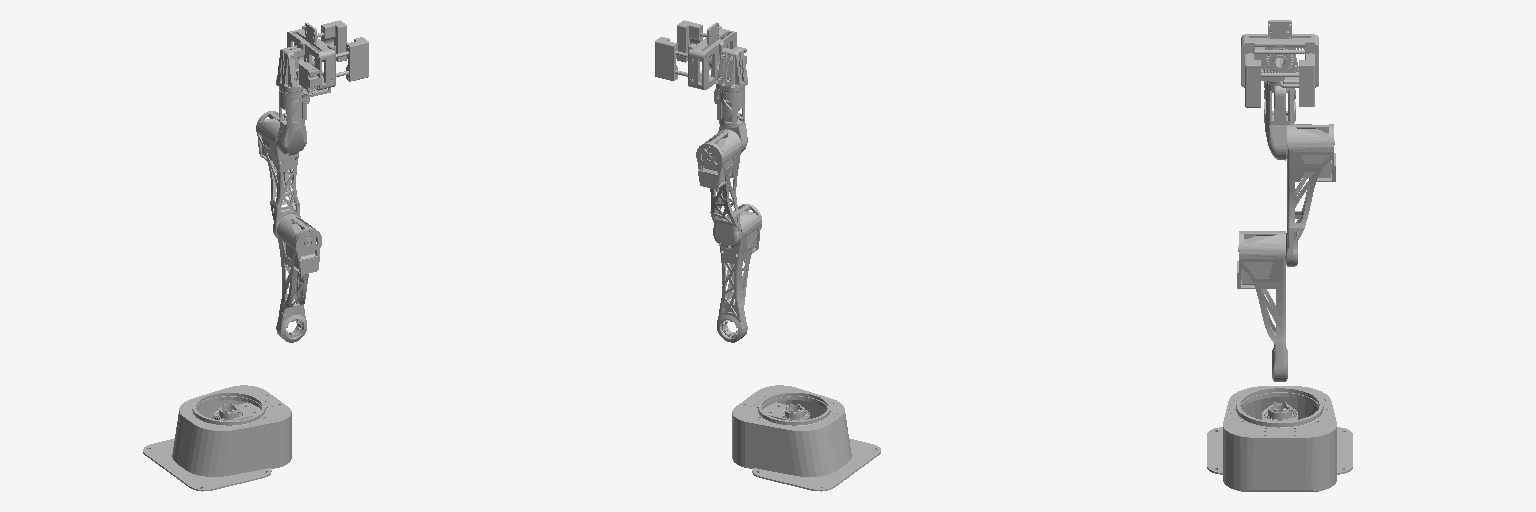
URDF robot description (robot):
<?xml version="1.0" encoding="utf-8"?>
<!-- This URDF was automatically created by SolidWorks to URDF Exporter! Originally created by [author] ([email redacted]) 
     Commit Version: 1.6.0-4-g7f85cfe  Build Version: 1.6.7995.38578
     For more information, please see http://wiki.ros.org/sw_urdf_exporter -->
<robot
  name="robot">
  <link
    name="base_link">
    <inertial>
      <origin
        xyz="0.026767 -0.01554 0.075"
        rpy="0 0 0" />
      <mass
        value="0.1883" />
      <inertia
        ixx="0.00029329"
        ixy="-3.3956E-05"
        ixz="-2.6337E-09"
        iyy="0.0005445"
        iyz="7.9205E-10"
        izz="0.0003719" />
    </inertial>
    <visual>
      <origin
        xyz="0 0 0"
        rpy="0 0 0" />
      <geometry>
        <mesh
          filename="package://mycobot_moveit/config/meshes/base_link.STL" />
      </geometry>
      <material
        name="">
        <color
          rgba="0.75294 0.75294 0.75294 1" />
      </material>
    </visual>
    <collision>
      <origin
        xyz="0 0 0"
        rpy="0 0 0" />
      <geometry>
        <mesh
          filename="package://mycobot_moveit/config/meshes/base_link.STL" />
      </geometry>
    </collision>
  </link>
  <link
    name="axis1_link">
    <inertial>
      <origin
        xyz="0.046824 0.056719 -0.00011125"
        rpy="0 0 0" />
      <mass
        value="0.28445" />
      <inertia
        ixx="0.00025925"
        ixy="-6.7497E-05"
        ixz="-3.128E-05"
        iyy="0.0003931"
        iyz="-1.6686E-05"
        izz="0.00041221" />
    </inertial>
    <visual>
      <origin
        xyz="0 0 0"
        rpy="0 0 0" />
      <geometry>
        <mesh
          filename="package://mycobot_moveit/config/meshes/axis1_link.STL" />
      </geometry>
      <material
        name="">
        <color
          rgba="0.75294 0.75294 0.75294 1" />
      </material>
    </visual>
    <collision>
      <origin
        xyz="0 0 0"
        rpy="0 0 0" />
      <geometry>
        <mesh
          filename="package://mycobot_moveit/config/meshes/axis1_link.STL" />
      </geometry>
    </collision>
  </link>
  <joint
    name="axis1_joint"
    type="continuous">
    <origin
      xyz="0.021569 -0.075 0.0059633"
      rpy="1.5708 0 0" />
    <parent
      link="base_link" />
    <child
      link="axis1_link" />
    <axis
      xyz="0 1 0" />
  </joint>
  <link
    name="axis2_link">
    <inertial>
      <origin
        xyz="-1.4283E-05 0.093446 0.014601"
        rpy="0 0 0" />
      <mass
        value="0.07357" />
      <inertia
        ixx="9.88E-05"
        ixy="1.4573E-09"
        ixz="1.7419E-09"
        iyy="1.3489E-05"
        iyz="-9.0492E-06"
        izz="9.6872E-05" />
    </inertial>
    <visual>
      <origin
        xyz="0 0 0"
        rpy="0 0 0" />
      <geometry>
        <mesh
          filename="package://mycobot_moveit/config/meshes/axis2_link.STL" />
      </geometry>
      <material
        name="">
        <color
          rgba="0.75294 0.75294 0.75294 1" />
      </material>
    </visual>
    <collision>
      <origin
        xyz="0 0 0"
        rpy="0 0 0" />
      <geometry>
        <mesh
          filename="package://mycobot_moveit/config/meshes/axis2_link.STL" />
      </geometry>
    </collision>
  </link>
  <joint
    name="axis2_joint"
    type="continuous">
    <origin
      xyz="0.088500000000001 0.0975 0"
      rpy="0 0 0" />
    <parent
      link="axis1_link" />
    <child
      link="axis2_link" />
    <axis
      xyz="0 0 1" />
  </joint>
  <link
    name="axis3_link">
    <inertial>
      <origin
        xyz="-1.2296E-05 0.090234 0.029647"
        rpy="0 0 0" />
      <mass
        value="0.068878" />
      <inertia
        ixx="7.709E-05"
        ixy="-2.271E-09"
        ixz="4.5802E-09"
        iyy="1.3674E-05"
        iyz="-1.1011E-05"
        izz="7.4216E-05" />
    </inertial>
    <visual>
      <origin
        xyz="0 0 0"
        rpy="0 0 0" />
      <geometry>
        <mesh
          filename="package://mycobot_moveit/config/meshes/axis3_link.STL" />
      </geometry>
      <material
        name="">
        <color
          rgba="0.75294 0.75294 0.75294 1" />
      </material>
    </visual>
    <collision>
      <origin
        xyz="0 0 0"
        rpy="0 0 0" />
      <geometry>
        <mesh
          filename="package://mycobot_moveit/config/meshes/axis3_link.STL" />
      </geometry>
    </collision>
  </link>
  <joint
    name="axis3_joint"
    type="continuous">
    <origin
      xyz="0 0.130000000000002 0.000797161845945485"
      rpy="3.14159265358979 0 3.14159265358979" />
    <parent
      link="axis2_link" />
    <child
      link="axis3_link" />
    <axis
      xyz="0 0 1" />
  </joint>
  <link
    name="axis4_link">
    <inertial>
      <origin
        xyz="0.0020068 0.034332 -0.00065458"
        rpy="0 0 0" />
      <mass
        value="0.028747" />
      <inertia
        ixx="4.9966E-06"
        ixy="-1.0618E-07"
        ixz="7.3424E-10"
        iyy="3.7208E-06"
        iyz="-1.7553E-07"
        izz="6.4556E-06" />
    </inertial>
    <visual>
      <origin
        xyz="0 0 0"
        rpy="0 0 0" />
      <geometry>
        <mesh
          filename="package://mycobot_moveit/config/meshes/axis4_link.STL" />
      </geometry>
      <material
        name="">
        <color
          rgba="0.75294 0.75294 0.75294 1" />
      </material>
    </visual>
    <collision>
      <origin
        xyz="0 0 0"
        rpy="0 0 0" />
      <geometry>
        <mesh
          filename="package://mycobot_moveit/config/meshes/axis4_link.STL" />
      </geometry>
    </collision>
  </link>
  <joint
    name="axis4_joint"
    type="continuous">
    <origin
      xyz="0 0.119999999999998 0"
      rpy="3.14159265358979 0 3.14159265358979" />
    <parent
      link="axis3_link" />
    <child
      link="axis4_link" />
    <axis
      xyz="0 0 1" />
  </joint>
  <link
    name="axisG_link">
    <inertial>
      <origin
        xyz="-0.032598 0.0021154 0.068255"
        rpy="0 0 0" />
      <mass
        value="0.10071" />
      <inertia
        ixx="4.2658E-05"
        ixy="-1.1309E-06"
        ixz="7.6585E-07"
        iyy="2.6015E-05"
        iyz="-5.1078E-07"
        izz="2.8736E-05" />
    </inertial>
    <visual>
      <origin
        xyz="0 0 0"
        rpy="0 0 0" />
      <geometry>
        <mesh
          filename="package://mycobot_moveit/config/meshes/axisG_link.STL" />
      </geometry>
      <material
        name="">
        <color
          rgba="0.75294 0.75294 0.75294 1" />
      </material>
    </visual>
    <collision>
      <origin
        xyz="0 0 0"
        rpy="0 0 0" />
      <geometry>
        <mesh
          filename="package://mycobot_moveit/config/meshes/axisG_link.STL" />
      </geometry>
    </collision>
  </link>
  <joint
    name="axisG_joint"
    type="continuous">
    <origin
      xyz="0 0.0327660460841696 -0.000797161845945443"
      rpy="-1.57079632679488 3.14159265358979 0" />
    <parent
      link="axis4_link" />
    <child
      link="axisG_link" />
    <axis
      xyz="0 0 1" />
  </joint>
</robot>

--- Render facts (derived) ---
3 views of the same robot in one strip: view 1: azimuth 30°, elevation 25°; view 2: azimuth 150°, elevation 25°; view 3: azimuth 270°, elevation 25° (orthographic).
Model robot with 6 links and 5 joints (5 continuous), rooted at base_link, posed every joint at zero.
Visible links, largest first — view 1: base_link, axisG_link, axis2_link, axis3_link, axis4_link; view 2: base_link, axisG_link, axis3_link, axis2_link, axis4_link; view 3: base_link, axisG_link, axis2_link, axis3_link, axis4_link.
Boxes of the visible links, bbox=[...] form: base_link: bbox=[143, 385, 291, 491]; axisG_link: bbox=[276, 20, 368, 97]; axis2_link: bbox=[276, 215, 321, 342]; axis3_link: bbox=[256, 111, 300, 238]; axis4_link: bbox=[276, 90, 309, 155]; base_link: bbox=[732, 385, 880, 491]; axisG_link: bbox=[655, 20, 747, 93]; axis3_link: bbox=[696, 129, 741, 248]; axis2_link: bbox=[717, 204, 761, 342]; axis4_link: bbox=[714, 88, 747, 152]; base_link: bbox=[1207, 386, 1352, 491]; axisG_link: bbox=[1241, 20, 1318, 107]; axis2_link: bbox=[1237, 231, 1287, 381]; axis3_link: bbox=[1285, 124, 1335, 266]; axis4_link: bbox=[1264, 81, 1295, 160].
Size in the robot's own frame: 0.2645 by 0.15 by 0.5534 metres.
Meshes: 6 distinct files referenced, 5 mesh visuals loaded (5 binary STL); not drawn: 1 (reference not matched to a file when rendering).